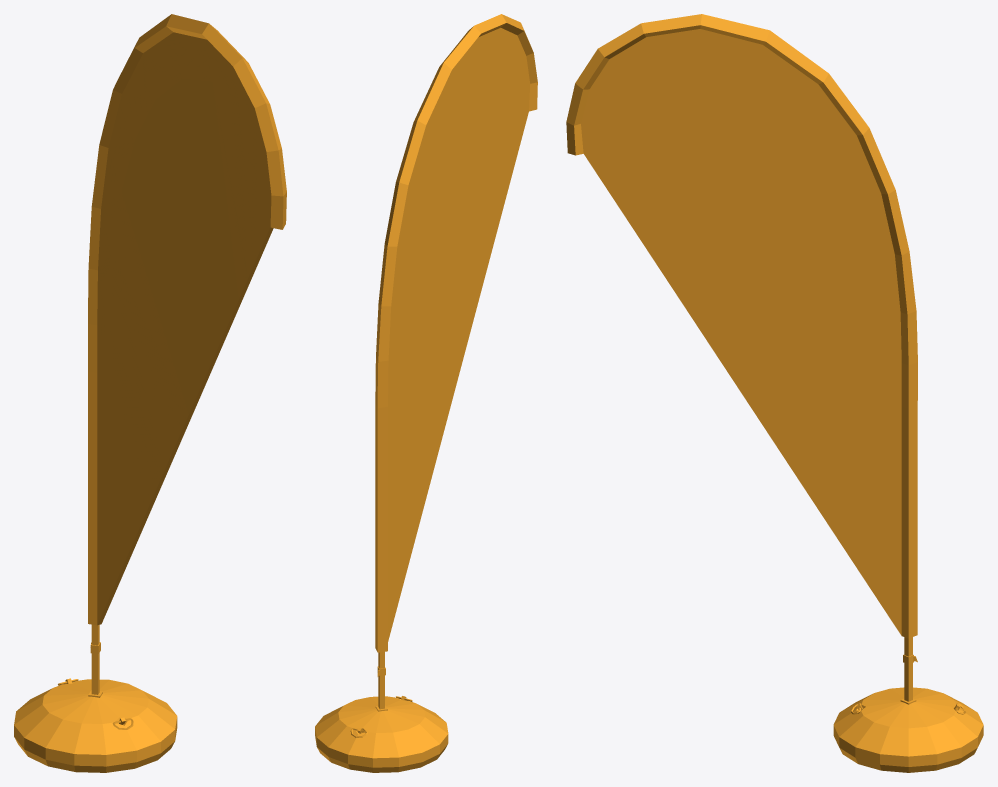
File: SM_Flag_Wing_Color.fbx
3 renders of one model, left to right at view 1: azimuth 30°, elevation 25°; view 2: azimuth 150°, elevation 25°; view 3: azimuth 270°, elevation 25°, orthographic. The views are drawn at different scales.
Parts seen in each view (by area): view 1: SM_Flag_Wing_Color; view 2: SM_Flag_Wing_Color; view 3: SM_Flag_Wing_Color.
Part boxes in pixels (<box>): SM_Flag_Wing_Color: <box>14,14,286,772</box>; SM_Flag_Wing_Color: <box>315,14,537,772</box>; SM_Flag_Wing_Color: <box>566,14,983,772</box>.
Size of the model in its own units: 1.05 by 5.65 by 2.93.
